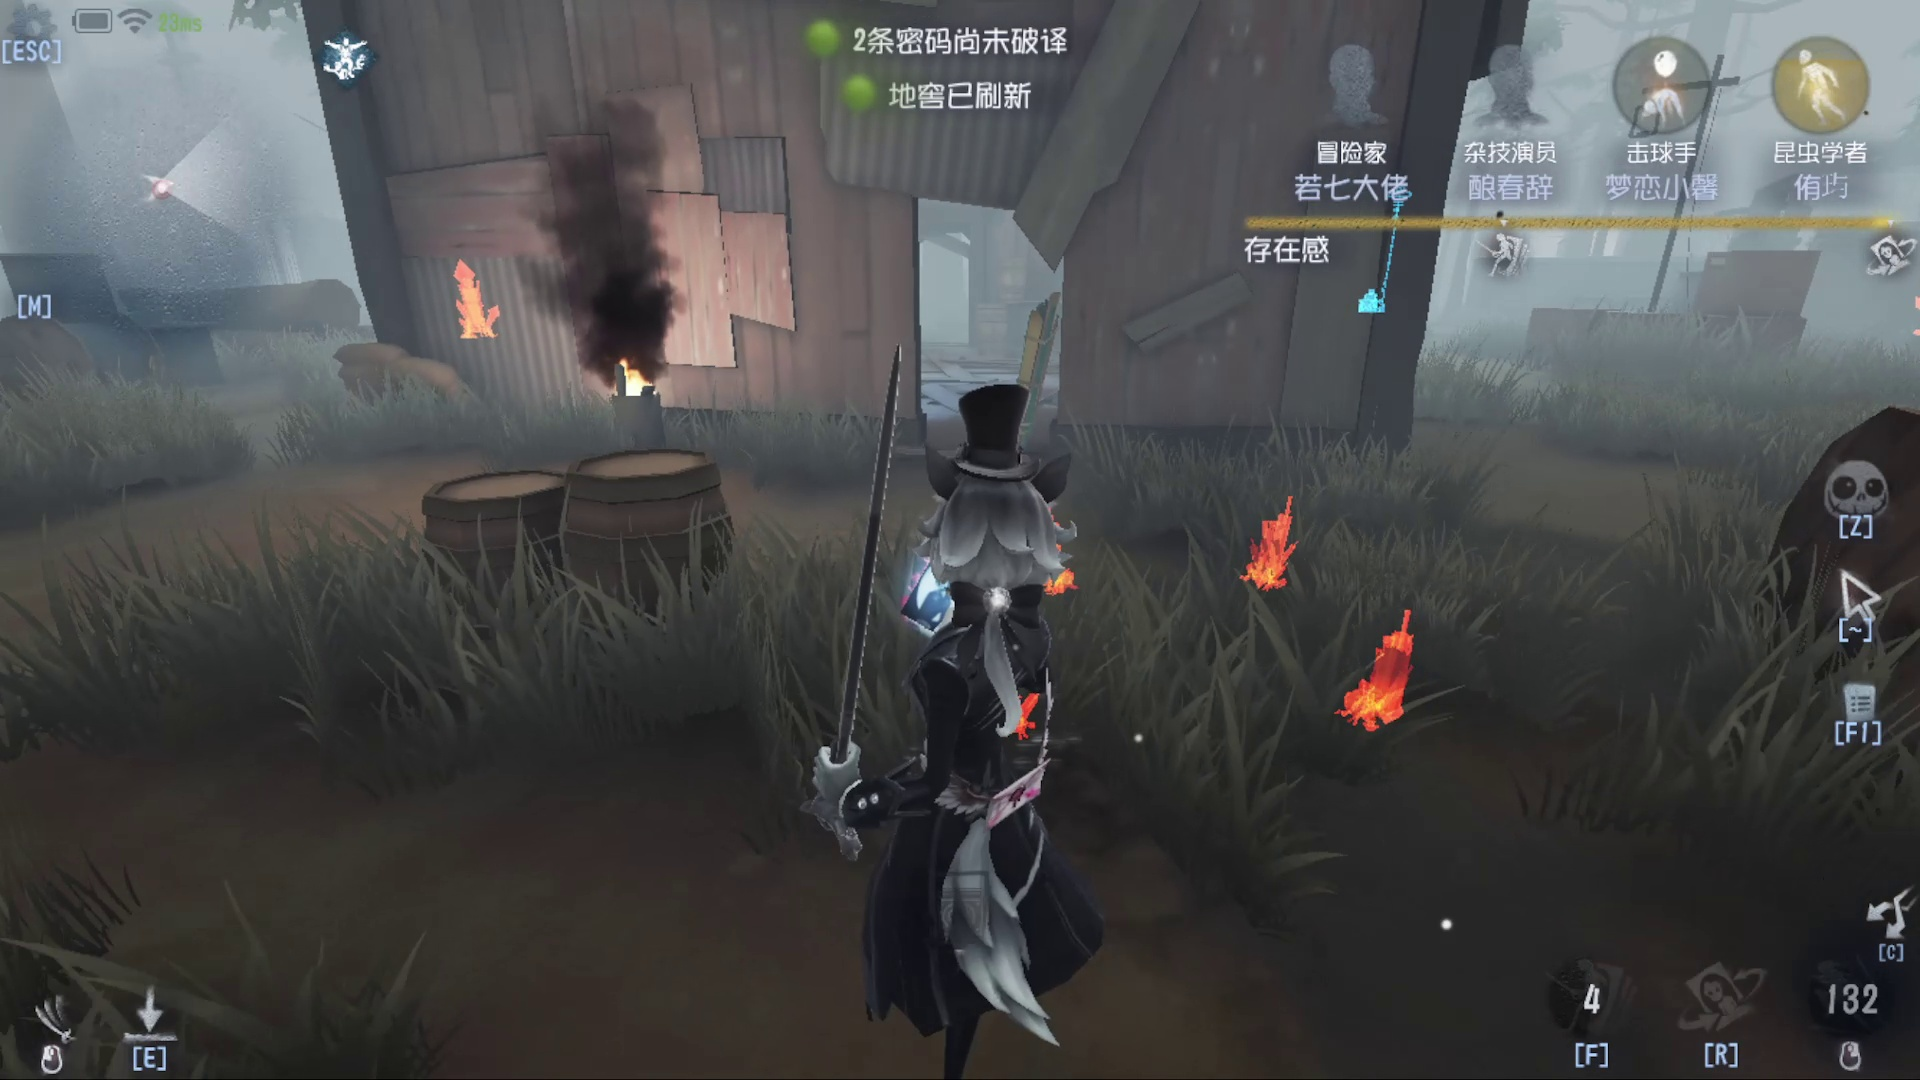木板: (953, 297, 1085, 458)
